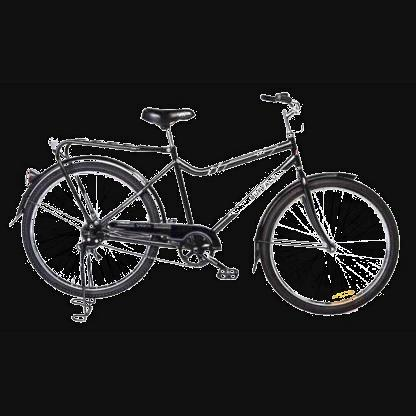Bicycle: (9, 79, 406, 333)
